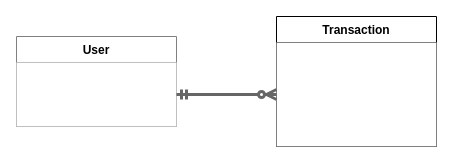
The diagram is 453 pixels wide and 163 high, and some of its shapes have lost their labels. Each missing label, with the centre of its shape:
id: uuid amount: bigint UserId: uuid ServiceId: uuid OrderId: uuid State: string: point 356,94
id: uuid balance: bigint: point 96,94
